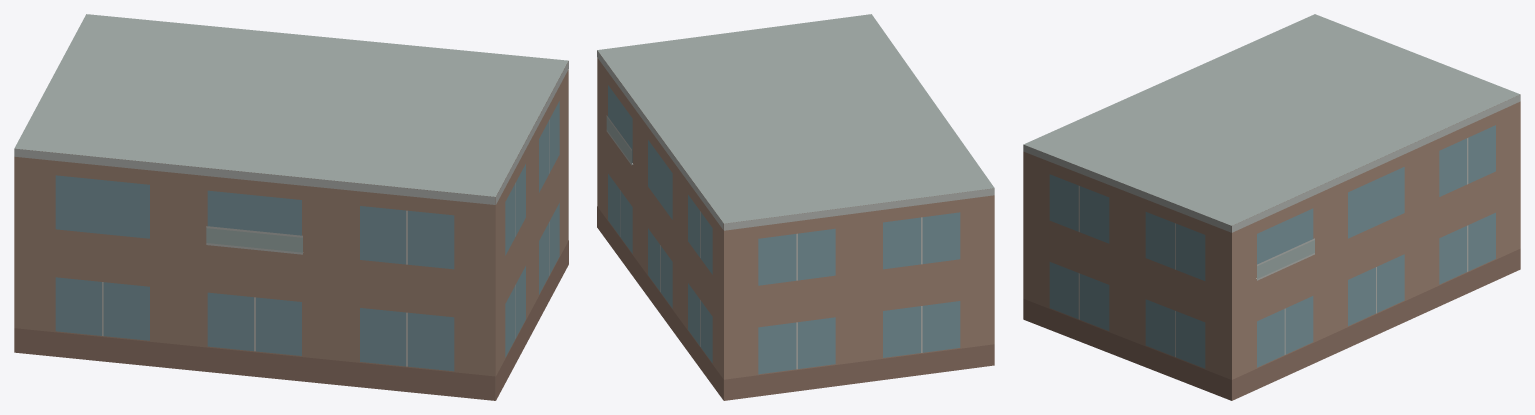
File: survey-upis-32510966.glb
3 views of the same model, side by side, from view 1: azimuth 30°, elevation 25°; view 2: azimuth 150°, elevation 25°; view 3: azimuth 270°, elevation 25° (orthographic). The views are drawn at different scales.
Visible parts, largest first — view 1: survey-upis-32510966.tmp; view 2: survey-upis-32510966.tmp; view 3: survey-upis-32510966.tmp.
Part boxes in pixels (x1,y1,x2,y2): survey-upis-32510966.tmp: (14, 14, 568, 400); survey-upis-32510966.tmp: (597, 14, 994, 400); survey-upis-32510966.tmp: (1023, 14, 1520, 400).
Size of the model in its own units: 15.85 by 6.1 by 15.72.
